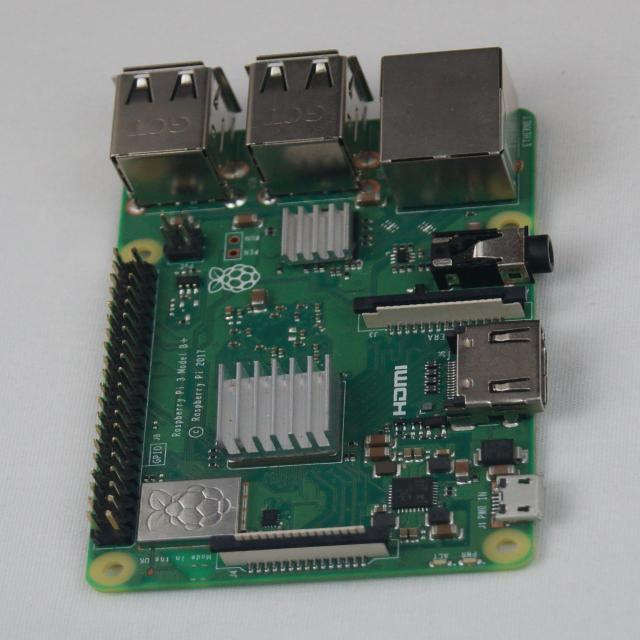Raspberry Pi 3 B-: (87, 48, 555, 591)
